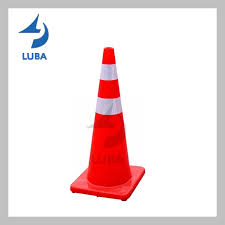cones: (69, 48, 145, 203)
